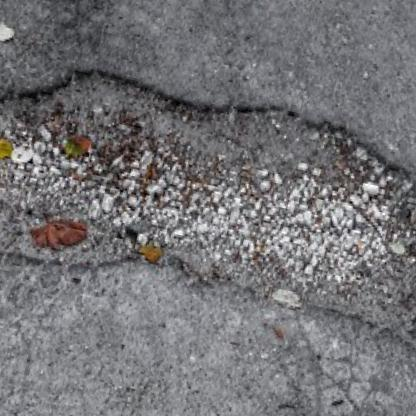pothole: (0, 41, 416, 354)
